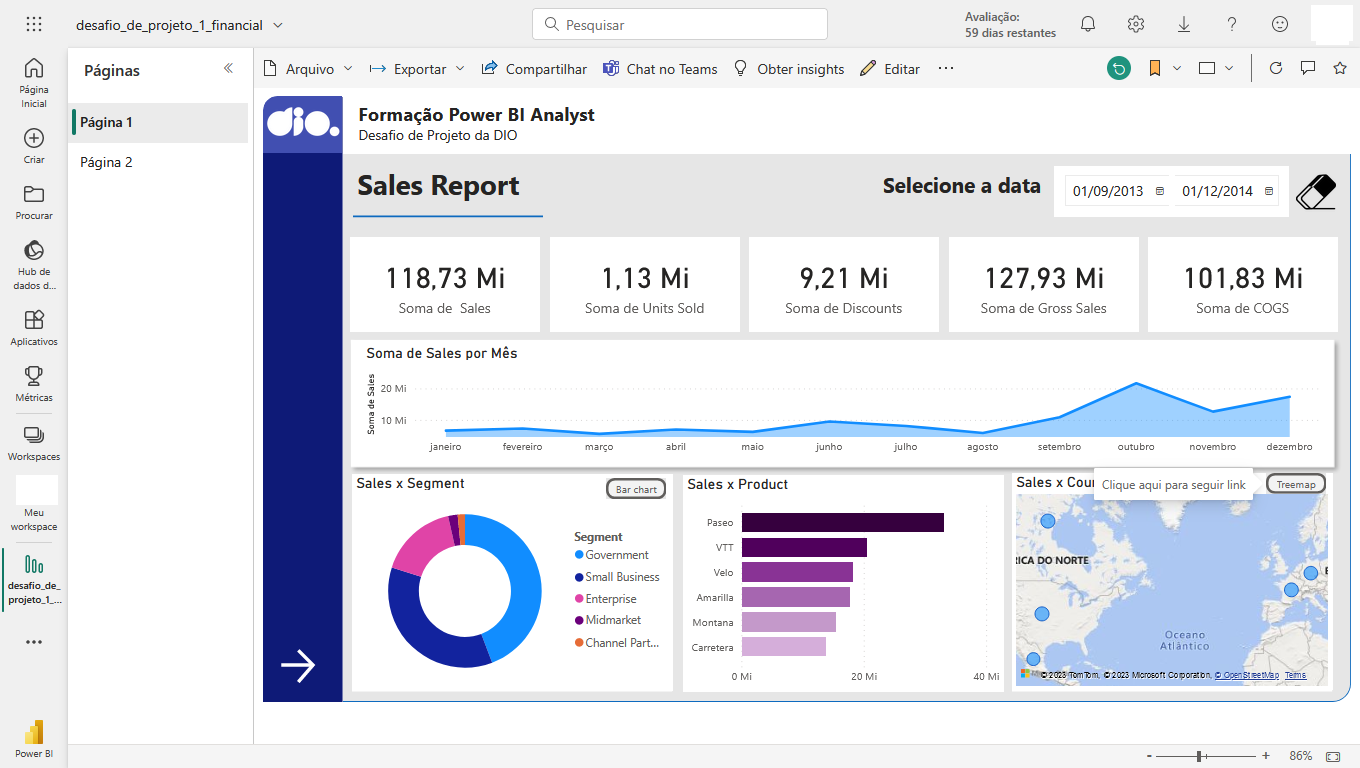

Layout of this report page (visuals, bound fields, positions):
{"tool":"powerbi","page":{"name":"Página 1","canvas":[1280,720],"ordinal":0},"visuals":[{"type":"shape","box":[10,10,1259.1,700.1],"z":0},{"type":"image","title":"img_eraser","box":[1197.4,92.9,62.9,55.7],"z":0,"group":"g4"},{"type":"shape","box":[115,131.6,220,33.3],"z":0,"group":"g5"},{"type":"shape","box":[110.7,172.6,220,110],"z":0,"group":"g1"},{"type":"treemap","title":"Sales x Country","fields":{"Group":["financials.Country"],"Values":["Sum(financials. Sales)"]},"box":[877.8,445.7,371.4,251.4],"z":0,"group":"g2"},{"type":"shape","box":[10.4,10.4,92.3,700.1],"z":1000},{"type":"textbox","box":[115,83.3,251.7,65],"z":1000,"group":"g5"},{"type":"textbox","box":[712.9,90,212.9,58.6],"z":1000,"group":"g4"},{"type":"shape","box":[572.4,172.6,220,110],"z":1000,"group":"g1"},{"type":"clusteredBarChart","title":"Sales x Segment","fields":{"Y":["Sum(financials. Sales)"],"Category":["financials.Segment"]},"box":[113.8,447.5,371.2,251.2],"z":1250,"group":"g3"},{"type":"shape","box":[10,9.7,91.8,66.1],"z":2000},{"type":"slicer","fields":{"Values":["financials.Date"]},"box":[925.8,90,271.4,58.6],"z":2000,"group":"g4"},{"type":"shape","box":[342.4,172.6,220,110],"z":2000,"group":"g1"},{"type":"actionButton","title":"btn_pie","box":[408.2,452.7,70,24],"z":2000,"group":"g3"},{"type":"shape","box":[102.4,10,1167,66.4],"z":3000},{"type":"shape","box":[1034,172.6,220,110],"z":3000,"group":"g1"},{"type":"actionButton","title":"btn_map","box":[1172.1,445.9,70,24],"z":3000,"group":"g2"},{"type":"image","title":"img_dio","box":[10,10,94.3,60],"z":4000},{"type":"shape","box":[804,172.6,220,110],"z":4000,"group":"g1"},{"type":"textbox","box":[115.7,10,624.3,62.9],"z":5000},{"type":"card","fields":{"Values":["Sum(financials.COGS)"]},"box":[1033.8,172.5,220,110],"z":5000,"group":"g1"},{"type":"group","id":"g1","title":"Cartões","box":[110.7,172.2,1143.3,110.4],"z":6000},{"type":"card","fields":{"Values":["Sum(financials. Sales)"]},"box":[111.1,172.2,220,110],"z":6000,"group":"g1"},{"type":"card","fields":{"Values":["Sum(financials.Units Sold)"]},"box":[342.3,172.2,220,110],"z":7000,"group":"g1"},{"type":"shape","box":[102.7,282.1,1156.4,165.4],"z":7000},{"type":"card","fields":{"Values":["Sum(financials.Discounts)"]},"box":[572.5,172.5,220,110],"z":8000,"group":"g1"},{"type":"card","fields":{"Values":["Sum(financials.Gross Sales)"]},"box":[804.3,172.9,220,110],"z":8000},{"type":"shape","box":[113.2,447.6,370.9,250.8],"z":8000},{"type":"shape","box":[877.7,447.6,370.9,250.8],"z":9000},{"type":"shape","box":[496.3,447.6,370.9,250.8],"z":10000},{"type":"areaChart","fields":{"Category":["financials.Date.Variation.Hierarquia de datas.Mês"],"Y":["Sum(financials. Sales)"]},"box":[125.4,296.1,1114.6,135.8],"z":11000},{"type":"clusteredBarChart","title":"Sales x Product","fields":{"Y":["Sum(financials. Sales)"],"Category":["financials.Product"]},"box":[496.2,447.5,371.2,251.2],"z":12000},{"type":"actionButton","box":[25.9,644.3,74.3,50],"z":12500},{"type":"group","id":"g2","title":"Sales x país","box":[877.8,445.6,371.1,252.2],"z":13000},{"type":"group","id":"g3","title":"Sales x segmento","box":[113.8,447.1,371.3,251.6],"z":14000},{"type":"group","id":"g4","title":"Filtro por data","box":[712.9,90,547.3,58.6],"z":15000},{"type":"group","id":"g5","title":"Title report","box":[115,83.3,251.7,81.7],"z":16000}]}

Visuals, with their boxes on the page's 1280x720 design canvas (x1, y1, x2, y2). These are canvas units, not pixel positions in the 1360x768 screenshot, which may show the page scaled, cropped or inside an application window:
shape: BBox(10, 10, 1269, 710)
"img_eraser" image: BBox(1197, 93, 1260, 149)
shape: BBox(115, 132, 335, 165)
shape: BBox(111, 173, 331, 283)
"Sales x Country" treemap: BBox(878, 446, 1249, 697)
shape: BBox(10, 10, 103, 710)
textbox: BBox(115, 83, 367, 148)
textbox: BBox(713, 90, 926, 149)
shape: BBox(572, 173, 792, 283)
"Sales x Segment" clusteredBarChart: BBox(114, 448, 485, 699)
shape: BBox(10, 10, 102, 76)
slicer - financials.Date: BBox(926, 90, 1197, 149)
shape: BBox(342, 173, 562, 283)
"btn_pie" actionButton: BBox(408, 453, 478, 477)
shape: BBox(102, 10, 1269, 76)
shape: BBox(1034, 173, 1254, 283)
"btn_map" actionButton: BBox(1172, 446, 1242, 470)
"img_dio" image: BBox(10, 10, 104, 70)
shape: BBox(804, 173, 1024, 283)
textbox: BBox(116, 10, 740, 73)
card - Sum(financials.COGS): BBox(1034, 172, 1254, 282)
"Cartões" group: BBox(111, 172, 1254, 283)
card - Sum(financials. Sales): BBox(111, 172, 331, 282)
card - Sum(financials.Units Sold): BBox(342, 172, 562, 282)
shape: BBox(103, 282, 1259, 448)
card - Sum(financials.Discounts): BBox(572, 172, 792, 282)
card - Sum(financials.Gross Sales): BBox(804, 173, 1024, 283)
shape: BBox(113, 448, 484, 698)
shape: BBox(878, 448, 1249, 698)
shape: BBox(496, 448, 867, 698)
areaChart - financials.Date.Variation.Hierarquia de datas.Mês x Sum(financials. Sales): BBox(125, 296, 1240, 432)
"Sales x Product" clusteredBarChart: BBox(496, 448, 867, 699)
actionButton: BBox(26, 644, 100, 694)
"Sales x país" group: BBox(878, 446, 1249, 698)
"Sales x segmento" group: BBox(114, 447, 485, 699)
"Filtro por data" group: BBox(713, 90, 1260, 149)
"Title report" group: BBox(115, 83, 367, 165)
